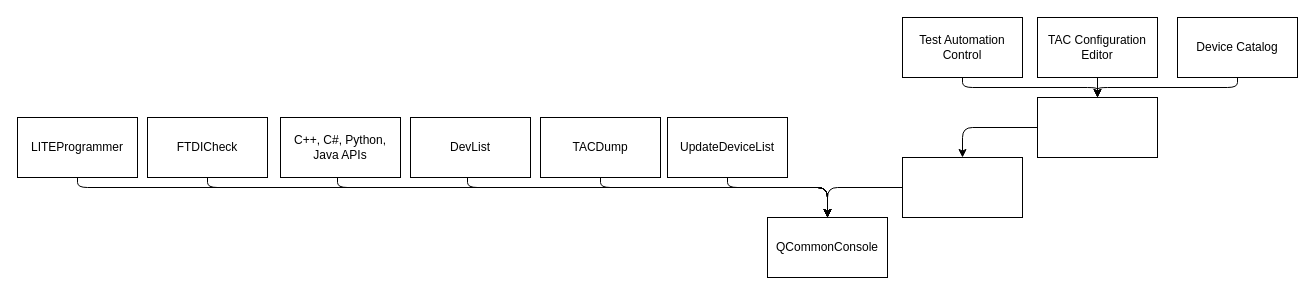
This 1315x295 diagram has some shape labels left out. Here are the shapes that lost their labels. From the top down, the centre of each, then its label:
the point at 1097,127: UICommon
the point at 962,187: QCommon
